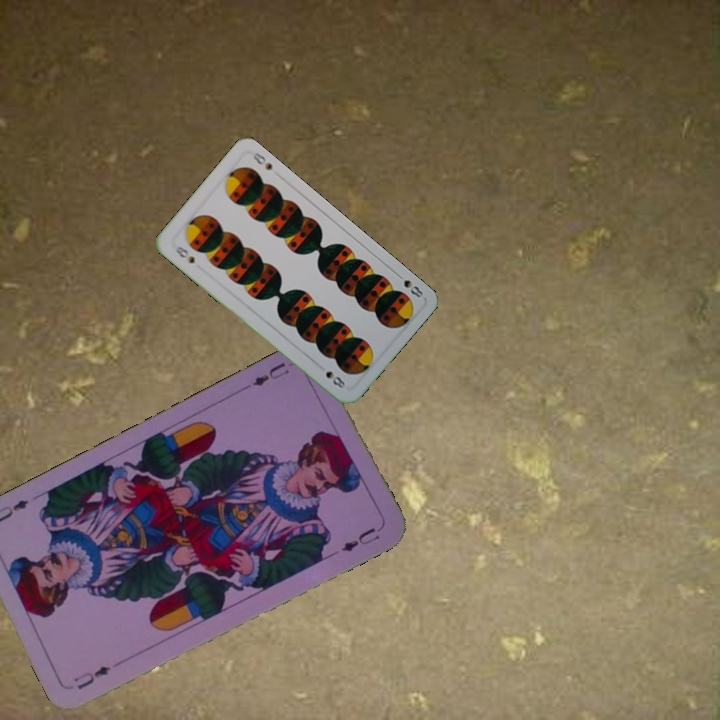EU: (69, 662, 114, 693), (248, 358, 292, 389)
S8: (391, 269, 426, 300), (171, 242, 197, 266)
